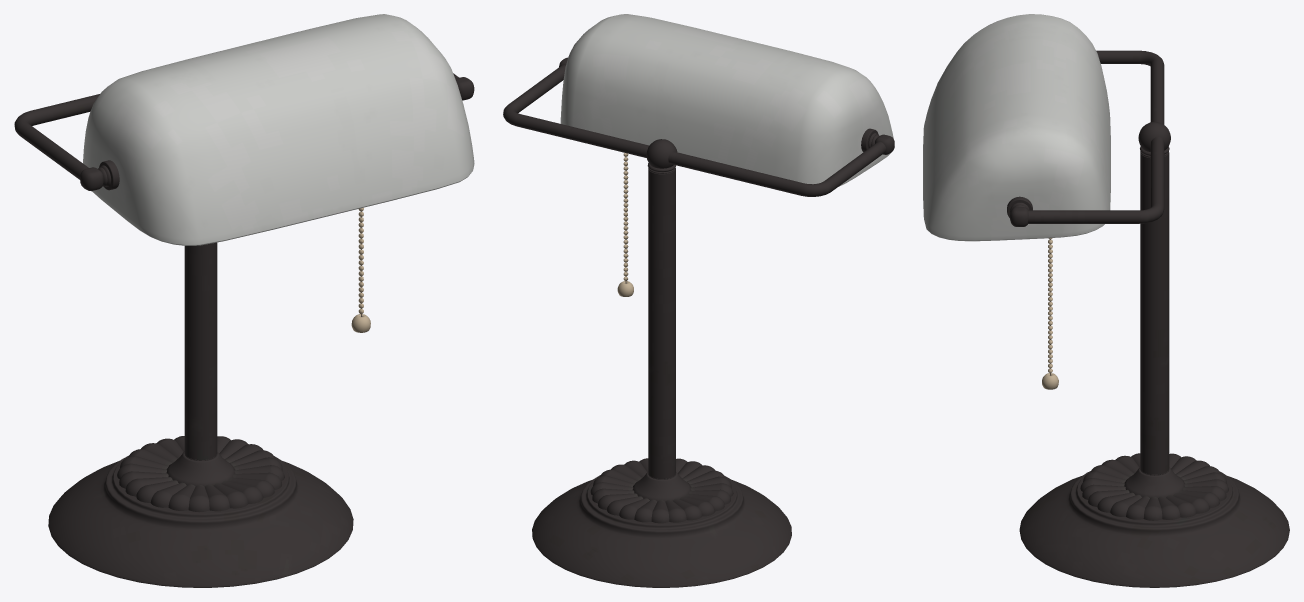
Rendered from abo-B07MBF93P1.glb.
The picture shows the model from 3 angles, left to right: view 1: azimuth 30°, elevation 25°; view 2: azimuth 150°, elevation 25°; view 3: azimuth 270°, elevation 25°; orthographic projection. The views are drawn at different scales.
Bounding box in the file's own units: 0.2638 × 0.339 × 0.243.
1 material, 1 textured.
